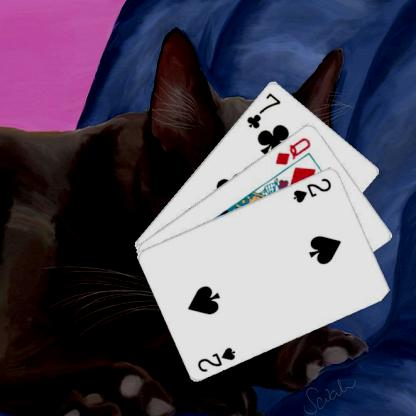2S: (290, 175, 333, 204), (195, 344, 237, 373)
7C: (243, 89, 282, 130)
QD: (272, 134, 312, 166)
